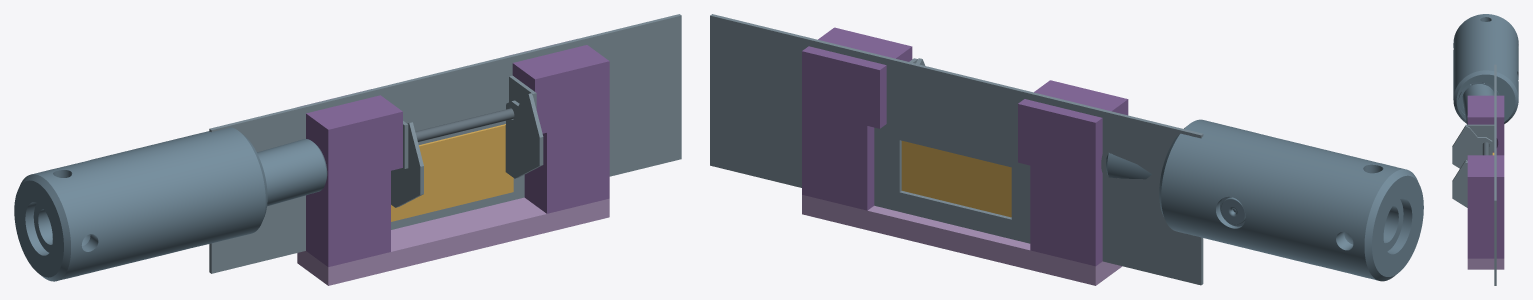
File: heading_wall_setup.glb
3 renders of one model, left to right at view 1: azimuth 30°, elevation 25°; view 2: azimuth 150°, elevation 25°; view 3: azimuth 270°, elevation 25°, orthographic. The views are drawn at different scales.
Visible parts, largest first — view 1: heading_wall_setup (×6); view 2: heading_wall_setup (×5); view 3: heading_wall_setup (×5).
Part boxes in pixels (x1,y1,x2,y2): heading_wall_setup (×6): (14,14,681,285); heading_wall_setup (×5): (710,14,1423,285); heading_wall_setup (×5): (1452,14,1518,285).
Bounding box in the file's own units: 0.2176 × 0.052 × 0.0324.
